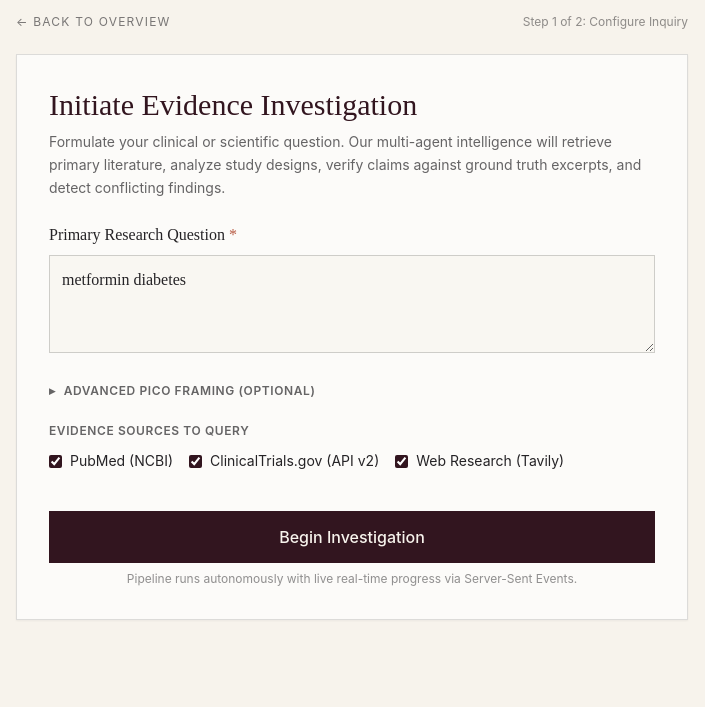
Test: NewResearchPage Component › toggles optional PICO framing inputs when clicked
The image size is (705, 707).
Click the button "▸ Advanced PICO Framing (Optional)" at x=182, y=391, box [49,383,316,399]
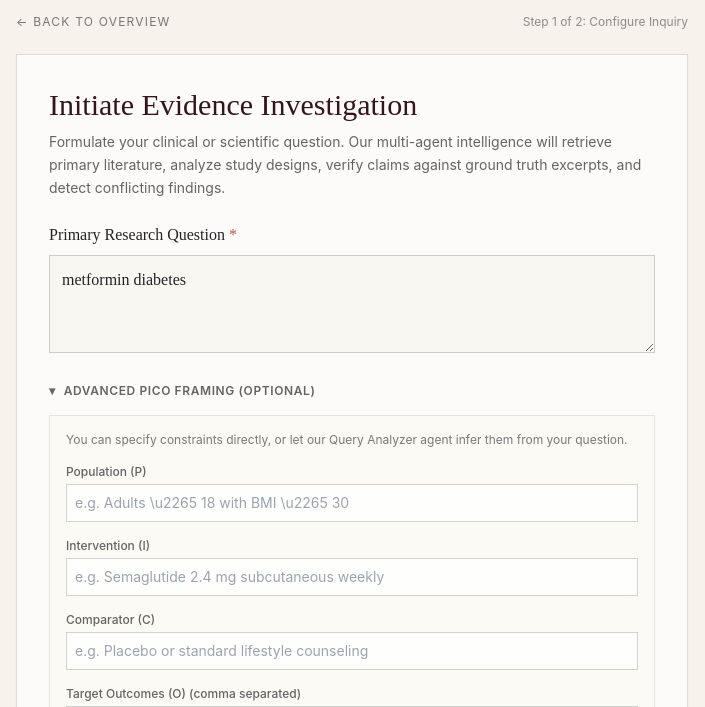
Now the field labelled "Population (P)" is shown, box [66,484,638,522]
Now the field labelled "Intervention (I)" is shown, box [66,558,638,596]
Now the field labelled "Comparator (C)" is shown, box [66,632,638,670]
